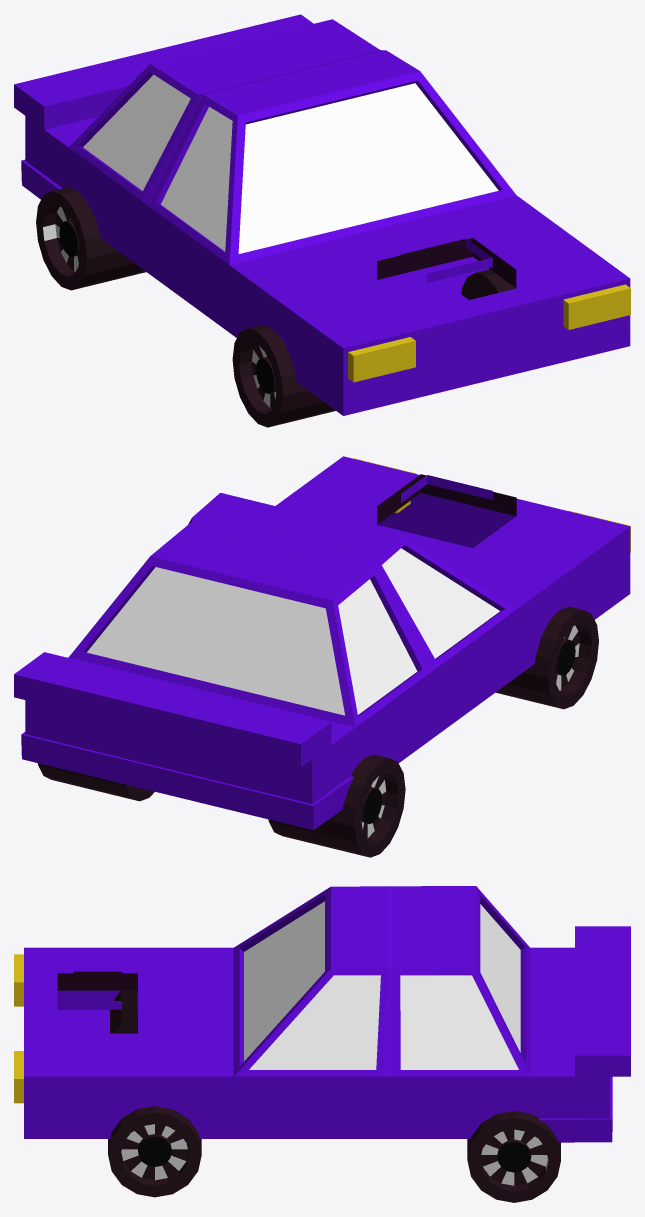
The model's file is car02.glb.
3 views of the same model, one above another, from view 1: azimuth 30°, elevation 25°; view 2: azimuth 150°, elevation 25°; view 3: azimuth 270°, elevation 25° (orthographic). The views are drawn at different scales.
Parts seen in each view (by area): view 1: Cube.003, Cylinder.004, Cylinder.002, Cube.002; view 2: Cube.003, Cylinder.002, Cylinder.004; view 3: Cube.003, Cylinder.004, Cylinder.002, Cube.002.
Part boxes in pixels (box(x1,y1,x2,y2)): Cube.003: box(14, 14, 630, 415); Cylinder.004: box(232, 269, 515, 427); Cylinder.002: box(36, 187, 145, 290); Cube.002: box(348, 284, 630, 382); Cube.003: box(14, 456, 630, 830); Cylinder.002: box(37, 754, 405, 857); Cylinder.004: box(496, 606, 598, 709); Cube.003: box(24, 886, 630, 1142); Cylinder.004: box(108, 990, 201, 1197); Cylinder.002: box(467, 1111, 560, 1202); Cube.002: box(14, 954, 23, 1103).
Bounding box in the file's own units: 3.62 × 2.44 × 6.58.
